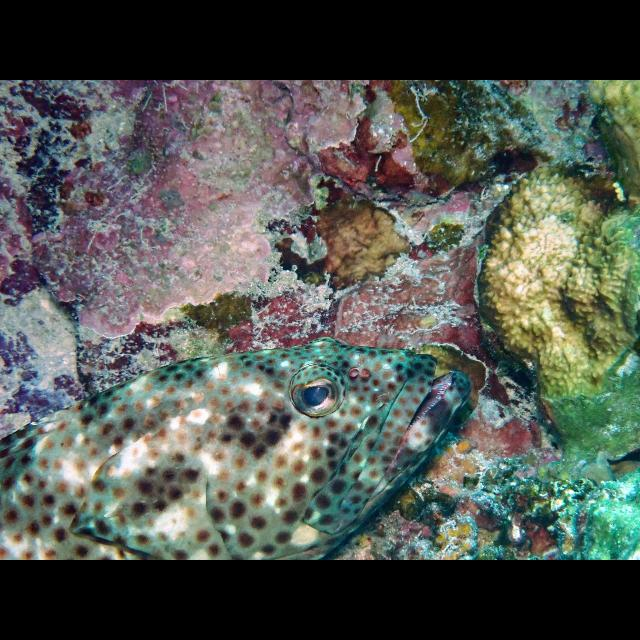Groupers: (0, 338, 470, 560)
